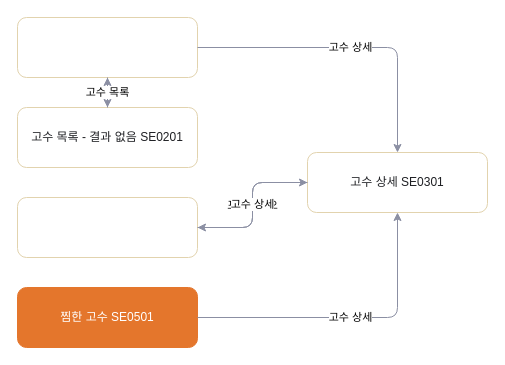
This 505x365 diagram has some shape labels left out. Each missing label, with the box of its shape:
고수 목록 SE0101: (16, 16, 198, 78)
고수 포트폴리오 SE0401: (16, 196, 198, 258)
